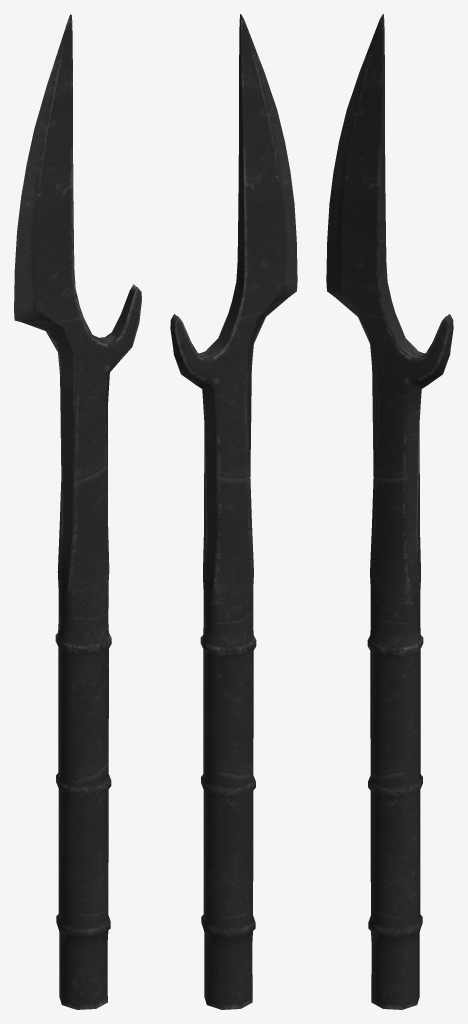
File: wm_isengard_1h_spear_a01_blade.fbx
The picture shows the model from 3 angles, left to right: view 1: azimuth 30°, elevation 25°; view 2: azimuth 210°, elevation 25°; view 3: azimuth 330°, elevation 25°; orthographic projection.
Parts seen in each view (by area): view 1: wm_isengard_1h_spear_a01_blade; view 2: wm_isengard_1h_spear_a01_blade; view 3: wm_isengard_1h_spear_a01_blade.
Boxes of the visible parts, left/top/right/bottom form: wm_isengard_1h_spear_a01_blade: left=14, top=14, right=141, bottom=1009; wm_isengard_1h_spear_a01_blade: left=170, top=14, right=297, bottom=1009; wm_isengard_1h_spear_a01_blade: left=326, top=14, right=453, bottom=1009.
Size of the model in its own units: 0.1258 by 0.048 by 0.9356.
Materials: 1 (1 with a texture image).
